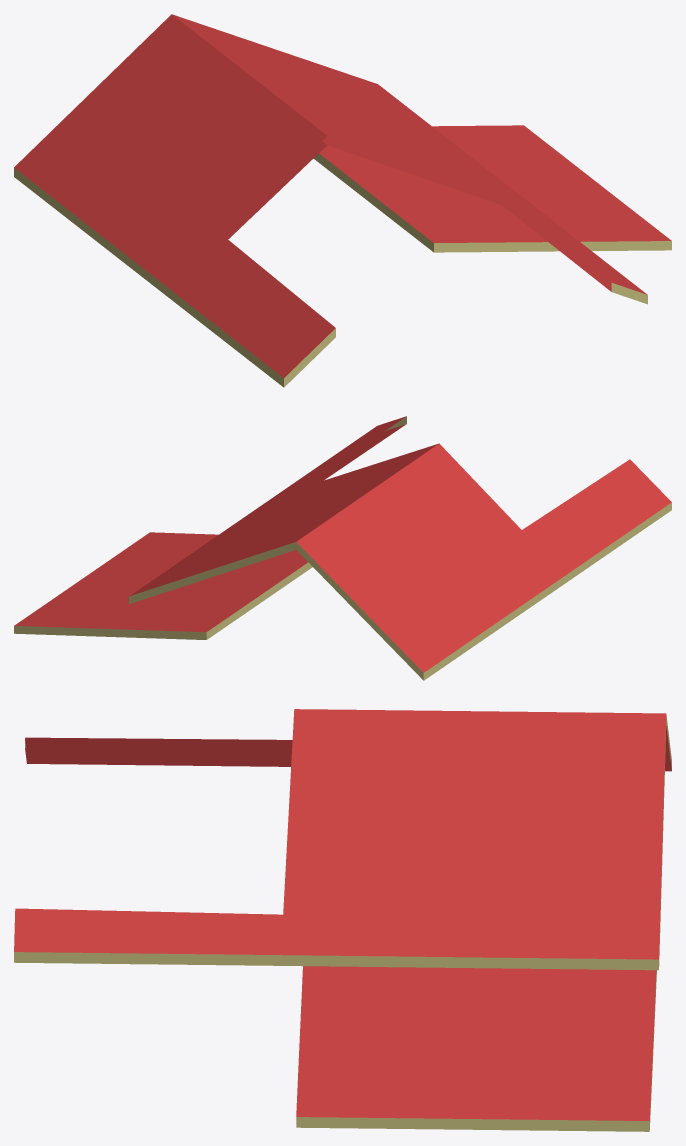
3 renders of one model, top to bottom at view 1: azimuth 30°, elevation 25°; view 2: azimuth 150°, elevation 25°; view 3: azimuth 270°, elevation 25°, orthographic. The views are drawn at different scales.
Bounding box in the file's own units: 5.68 × 5.54 × 2.11.
